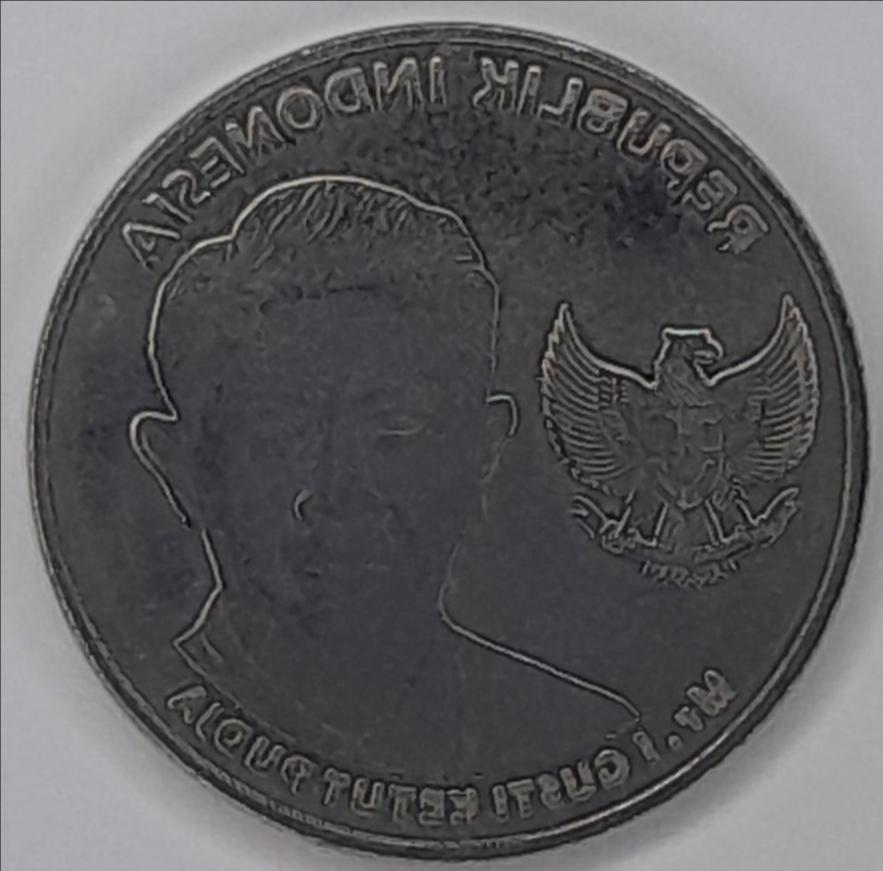coin_1000_e2016: (15, 17, 871, 871)
